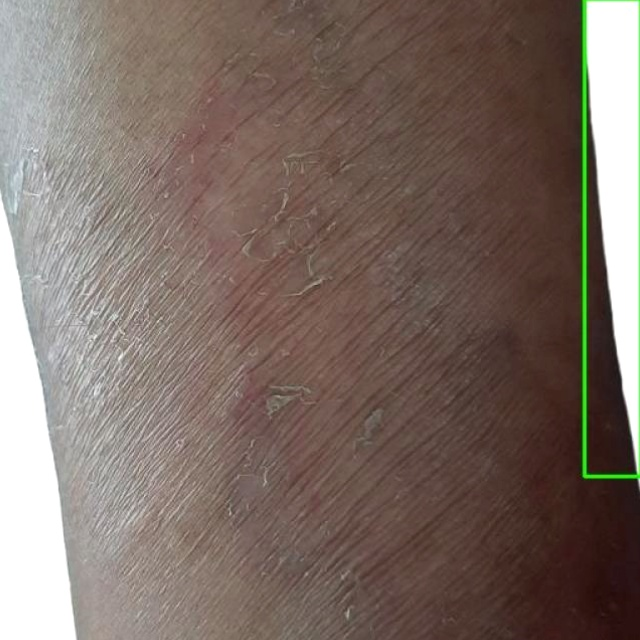Tinea Corporis: (584, 0, 639, 476)
